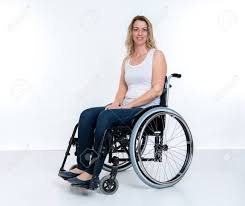white_female: (126, 17, 156, 53)
